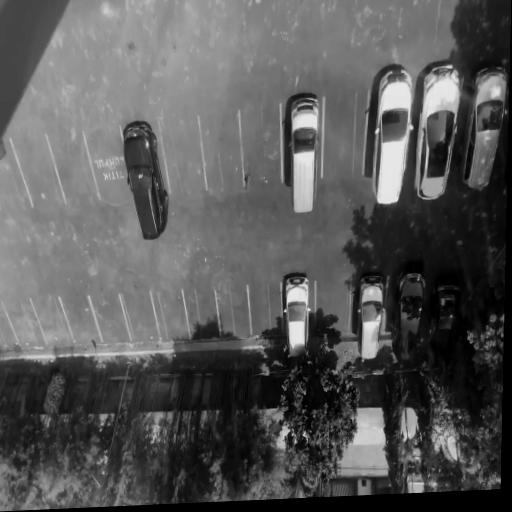Car: (411, 60, 467, 200), (456, 61, 510, 195), (369, 64, 415, 208), (118, 118, 171, 242), (389, 263, 432, 365), (420, 272, 468, 353), (288, 94, 319, 219), (356, 273, 388, 362), (283, 270, 311, 365)
Space Available: (10, 134, 65, 206), (322, 91, 368, 175), (158, 117, 206, 195), (47, 131, 98, 204), (238, 105, 283, 187), (198, 112, 244, 189), (80, 128, 129, 199), (1, 296, 47, 347), (29, 295, 75, 346), (0, 140, 32, 213), (213, 279, 252, 337), (58, 295, 103, 344), (89, 294, 131, 345), (119, 291, 159, 344), (150, 288, 190, 341), (314, 282, 351, 338), (181, 288, 221, 339), (247, 280, 282, 336), (0, 299, 19, 349)
